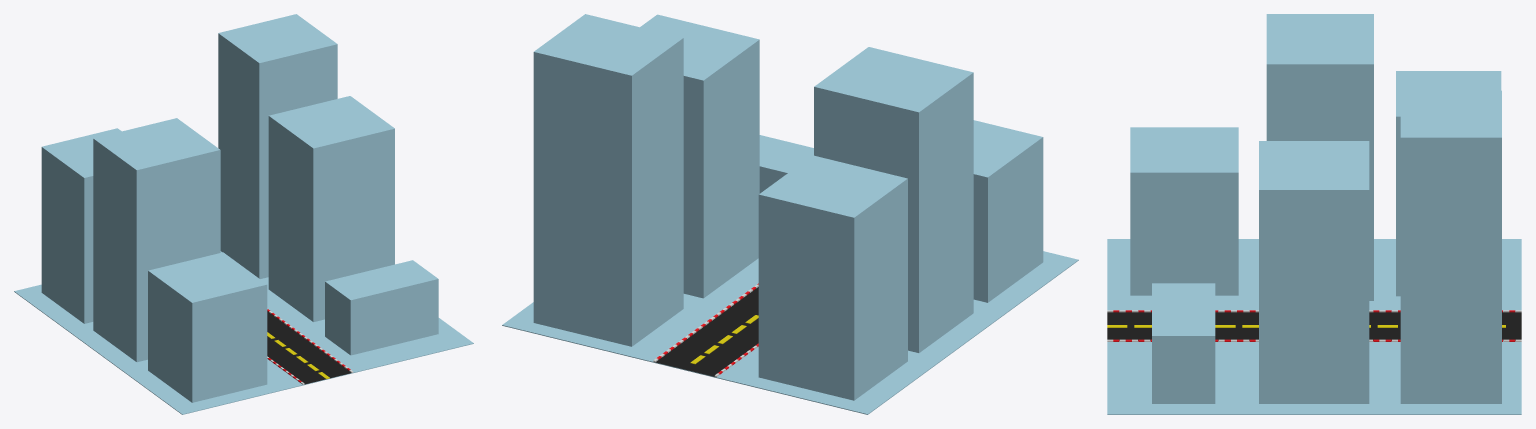
File: town.fbx
3 renders of one model, left to right at view 1: azimuth 30°, elevation 25°; view 2: azimuth 150°, elevation 25°; view 3: azimuth 270°, elevation 25°, orthographic. The views are drawn at different scales.
Visible parts, largest first — view 1: Cube, Street; view 2: Cube, Street; view 3: Cube, Street, WhiteBorder, RedBorder.
Part boxes in pixels (x1=…): Cube: x1=14, y1=14, x2=473, y2=414; Street: x1=267, y1=311, x2=350, y2=384; Cube: x1=502, y1=14, x2=1078, y2=414; Street: x1=655, y1=287, x2=758, y2=376; Cube: x1=1107, y1=14, x2=1521, y2=414; Street: x1=1107, y1=312, x2=1521, y2=340; WhiteBorder: x1=1107, y1=310, x2=1521, y2=341; RedBorder: x1=1113, y1=310, x2=1515, y2=341.
Bounding box in the file's own units: 60.71 × 43.13 × 60.7.
